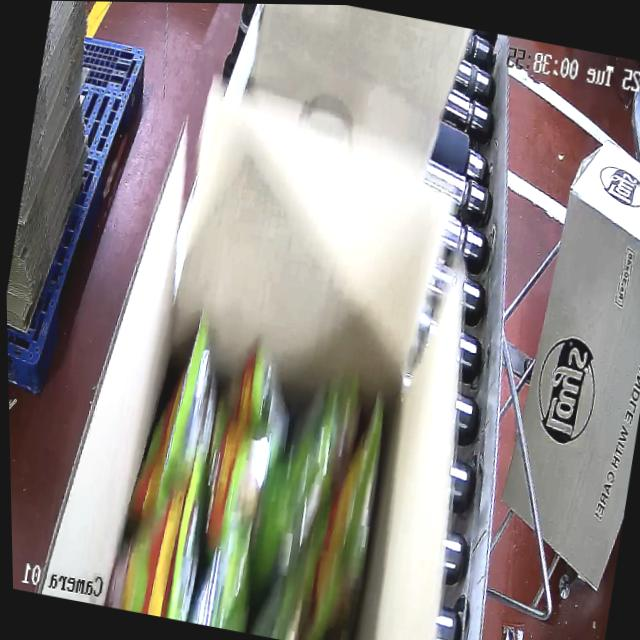YOGURT_HERB: (103, 340, 406, 640)
